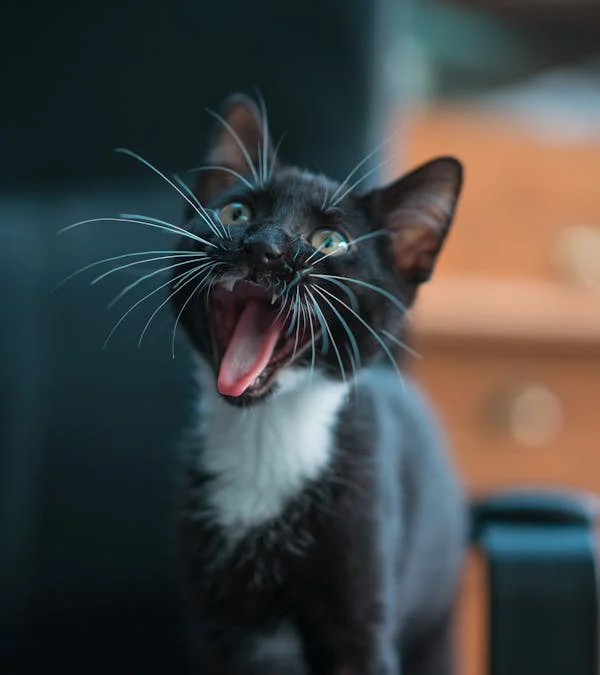Cat: (169, 92, 465, 675)
